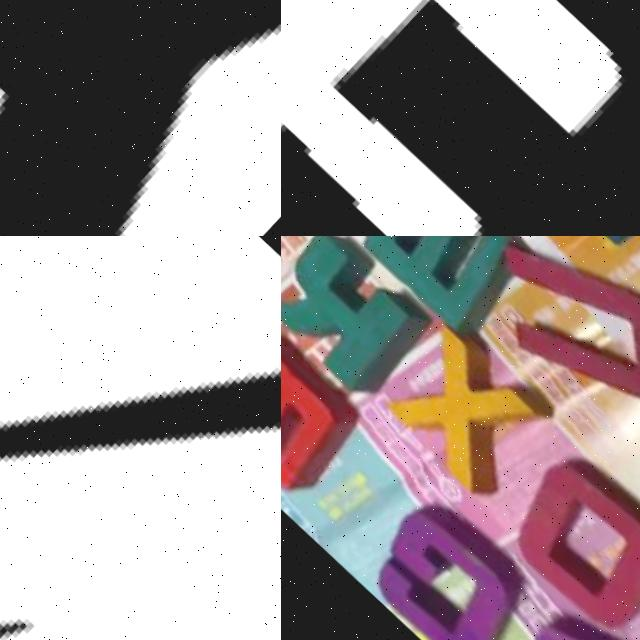7: (0, 236, 281, 640)
E: (333, 0, 640, 236)
G: (349, 484, 544, 640)
K: (281, 236, 434, 398)
M: (332, 236, 540, 339)
O: (484, 433, 640, 640)
P: (281, 236, 295, 352)
S: (493, 598, 640, 640)
U: (467, 236, 640, 447)
W: (281, 325, 369, 500)
X: (374, 315, 561, 500)
Y: (0, 0, 281, 236)
